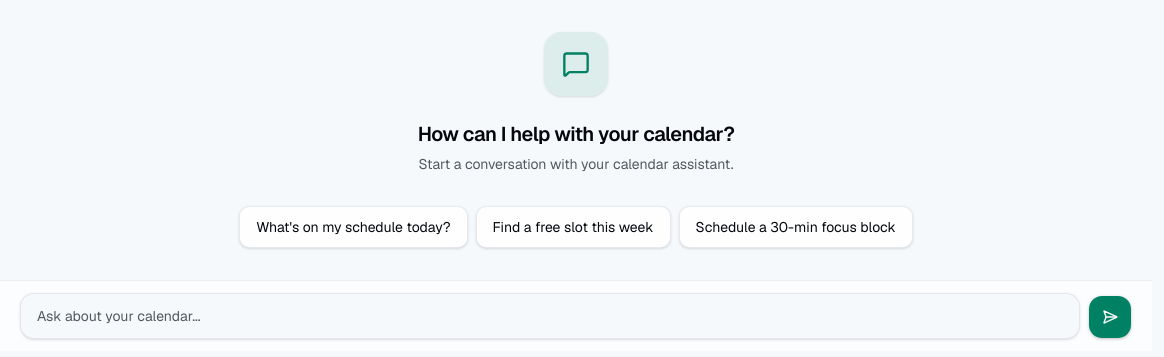
Test: ChatShell › should display error state
Type "test" into the text box named "chat message" at (550, 316), box [20,293,1080,339]
Then press Enter
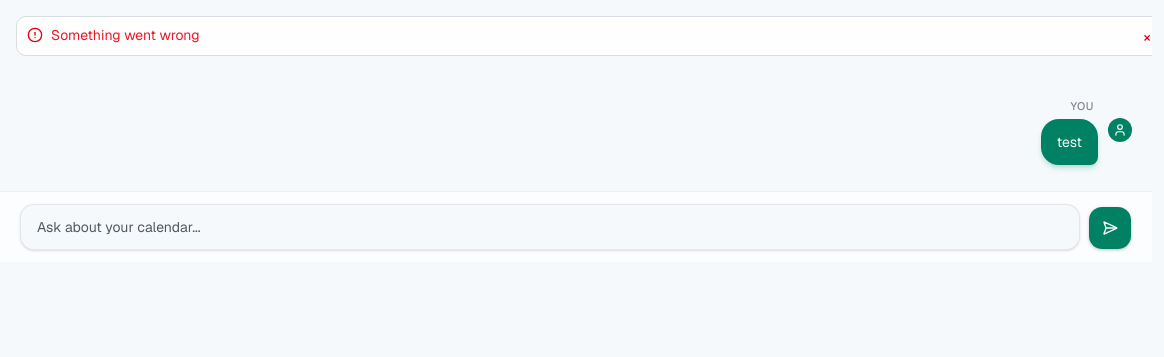
Check: the text "Something went wrong" is shown, box [51,26,200,44]
